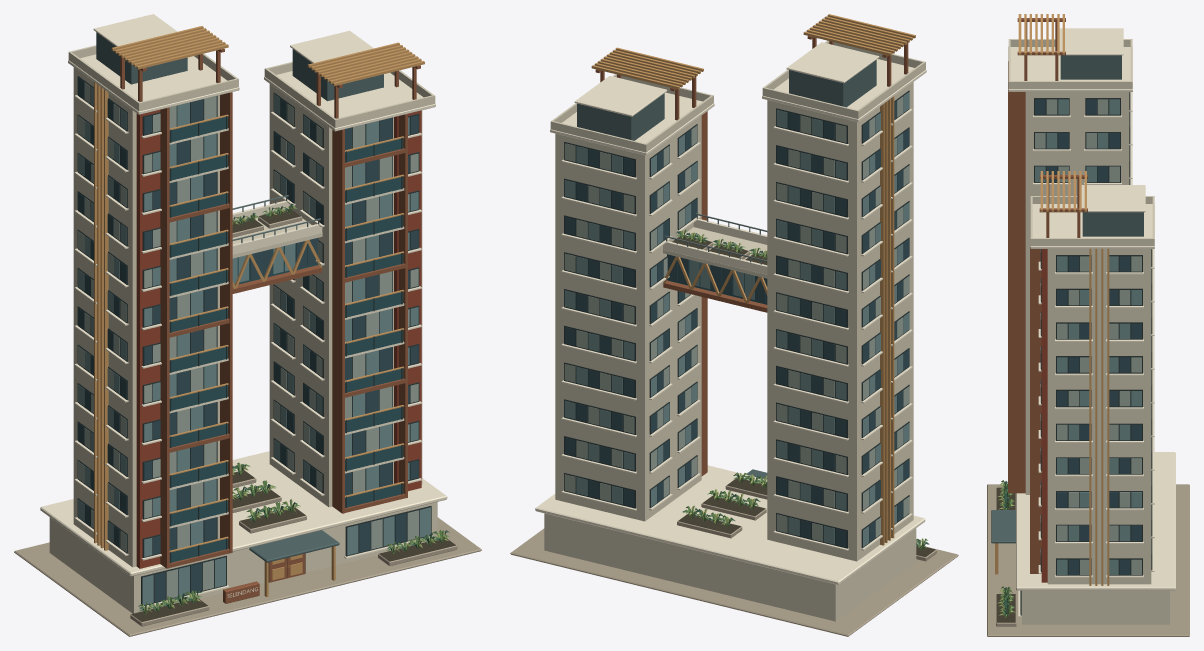
3 renders of one model, left to right at view 1: azimuth 30°, elevation 25°; view 2: azimuth 150°, elevation 25°; view 3: azimuth 270°, elevation 25°, orthographic. The views are drawn at different scales.
Visible parts, largest first — view 1: Deep balcony frames, Aluminium ribbon casements, Offset apartment towers, Podium arrival court, Rooftop shade pergolas, Selendang bridge, Garden beds, Pandan planting, Entrance joinery; view 2: Offset apartment towers, Aluminium ribbon casements, Podium arrival court, Rooftop shade pergolas, Deep balcony frames, Selendang bridge, Garden beds, Pandan planting; view 3: Offset apartment towers, Aluminium ribbon casements, Deep balcony frames, Podium arrival court, Rooftop shade pergolas, Garden beds, Pandan planting.
Boxes of the visible parts, left/top/right/bottom form: Deep balcony frames: left=68, top=45, right=435, bottom=568; Aluminium ribbon casements: left=74, top=76, right=433, bottom=608; Offset apartment towers: left=73, top=67, right=422, bottom=567; Podium arrival court: left=14, top=451, right=481, bottom=636; Rooftop shade pergolas: left=93, top=14, right=424, bottom=118; Selendang bridge: left=232, top=195, right=322, bottom=293; Garden beds: left=130, top=209, right=457, bottom=626; Pandan planting: left=138, top=203, right=449, bottom=615; Entrance joinery: left=268, top=553, right=305, bottom=582; Offset apartment towers: left=555, top=82, right=913, bottom=561; Aluminium ribbon casements: left=561, top=90, right=912, bottom=550; Podium arrival court: left=510, top=465, right=958, bottom=636; Rooftop shade pergolas: left=574, top=14, right=915, bottom=140; Deep balcony frames: left=550, top=40, right=926, bottom=476; Selendang bridge: left=663, top=213, right=767, bottom=312; Garden beds: left=672, top=235, right=936, bottom=561; Pandan planting: left=676, top=229, right=929, bottom=550; Offset apartment towers: left=1025, top=92, right=1151, bottom=585; Aluminium ribbon casements: left=1018, top=92, right=1154, bottom=617; Deep balcony frames: left=1008, top=39, right=1154, bottom=582; Podium arrival court: left=987, top=452, right=1189, bottom=636; Rooftop shade pergolas: left=1017, top=14, right=1145, bottom=237; Garden beds: left=996, top=487, right=1016, bottom=626; Pandan planting: left=997, top=480, right=1014, bottom=617.
Bounding box in the file's own units: 28.7 × 42.75 × 16.25.
